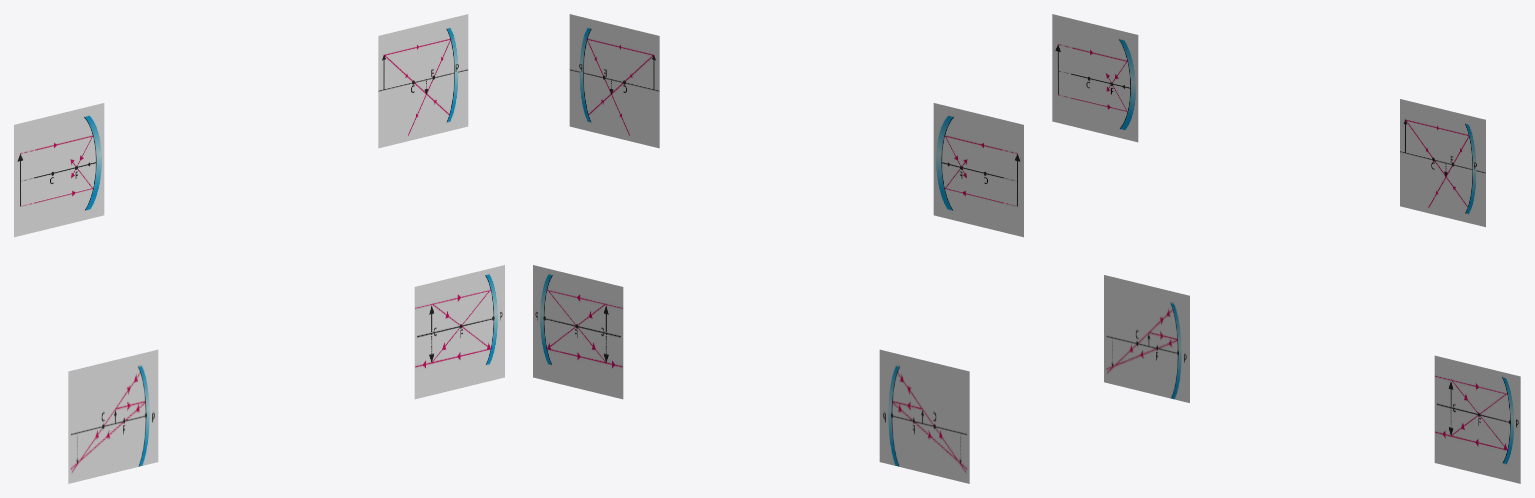
Rendered from con_case1234.fbx.
The picture shows the model from 3 angles, left to right: view 1: azimuth 30°, elevation 25°; view 2: azimuth 150°, elevation 25°; view 3: azimuth 330°, elevation 25°; orthographic projection. The views are drawn at different scales.
Parts seen in each view (by area): view 1: parll_concave_2, parll_concave_Correct, parll_concave_3, parll_concave_4; view 2: parll_concave_2, parll_concave_Correct, parll_concave_3, parll_concave_4; view 3: parll_concave_Correct, parll_concave_3, parll_concave_2, parll_concave_4.
Boxes of the visible parts, x1,y1,x2,y2 form: parll_concave_2: (378, 14, 468, 148); parll_concave_Correct: (14, 103, 104, 237); parll_concave_3: (414, 265, 504, 399); parll_concave_4: (68, 349, 158, 483); parll_concave_2: (569, 14, 659, 148); parll_concave_Correct: (933, 103, 1023, 237); parll_concave_3: (533, 265, 623, 399); parll_concave_4: (879, 349, 969, 483); parll_concave_Correct: (1052, 14, 1138, 142); parll_concave_3: (1434, 355, 1520, 483); parll_concave_2: (1400, 99, 1485, 227); parll_concave_4: (1104, 275, 1189, 402).
Bounding box in the file's own units: 410 × 297 × 0.
1 material, 1 textured.
